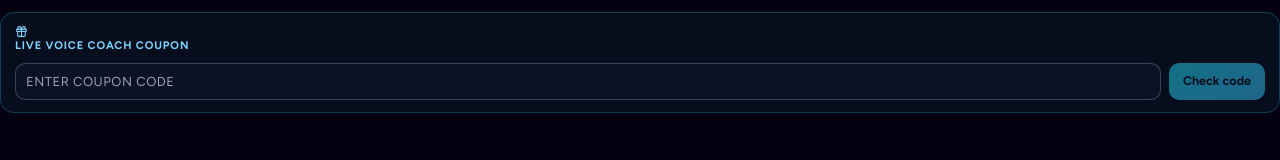
Test case: already_redeemed (ok:true, idempotent revalidation) shows a non-error informational message
Type "used2" into the field with test id "live-coupon-input" at (588, 81), box top-left (15, 62), bottom-right (1161, 100)
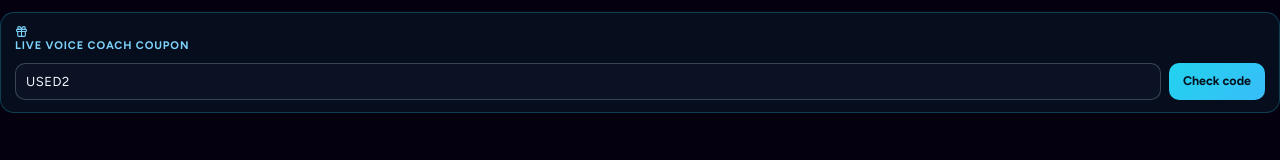
Click the button with test id "live-coupon-check-btn" at (1217, 81), box top-left (1169, 62), bottom-right (1265, 100)
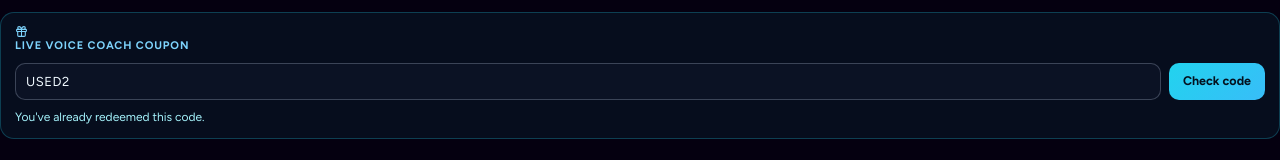
Result: the text with test id "live-coupon-already-used" shows "already redeemed" at top-left (15, 110), bottom-right (205, 124)
